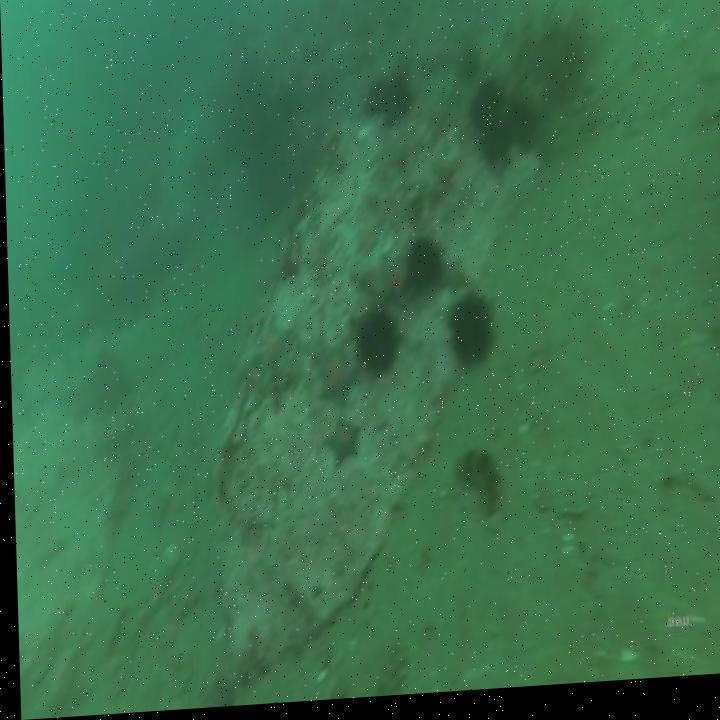echinus: (444, 294, 497, 384), (349, 305, 402, 388), (365, 74, 415, 137), (396, 240, 443, 301), (472, 114, 513, 176), (463, 80, 505, 137), (503, 91, 538, 159)
holothurian: (452, 442, 498, 537)
starfish: (247, 317, 294, 396), (358, 258, 406, 316), (314, 352, 355, 416), (317, 416, 359, 466), (439, 262, 465, 304)
